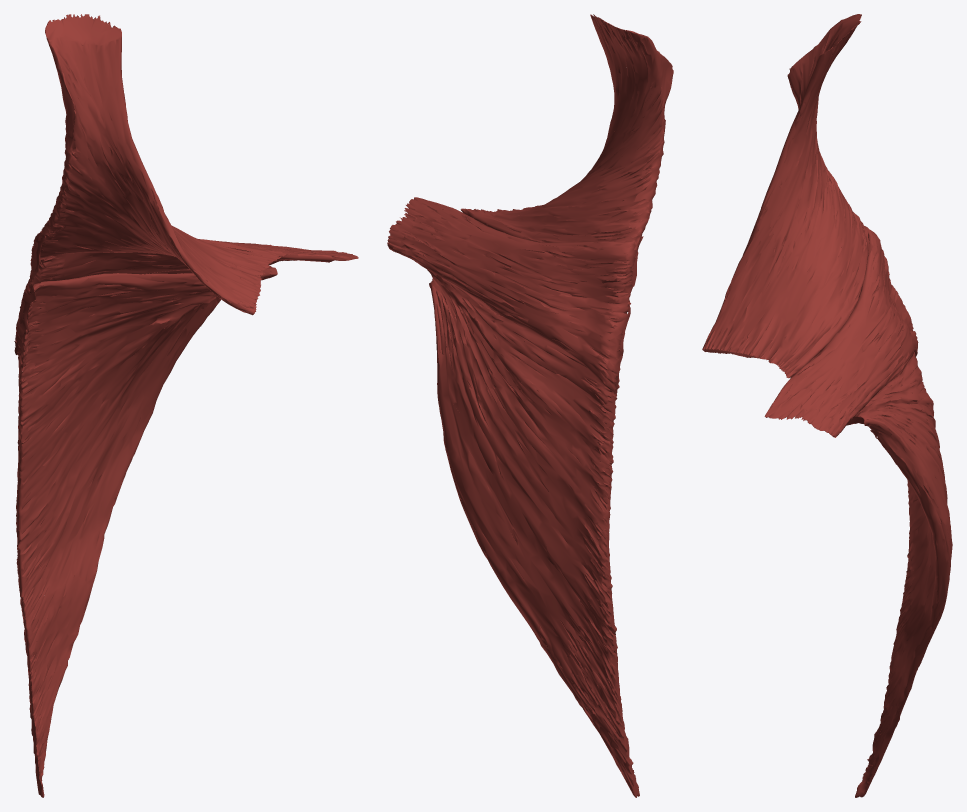
The model's file is explorar-trapezius.glb.
The picture shows the model from 3 angles, left to right: view 1: azimuth 30°, elevation 25°; view 2: azimuth 150°, elevation 25°; view 3: azimuth 270°, elevation 25°; orthographic projection. The views are drawn at different scales.
Visible parts, largest first — view 1: trapezius__porcion_ascendente, trapezius__porcion_descendente, trapezius__porcion_transversa; view 2: trapezius__porcion_ascendente, trapezius__porcion_transversa, trapezius__porcion_descendente; view 3: trapezius__porcion_descendente, trapezius__porcion_ascendente, trapezius__porcion_transversa.
Boxes of the visible parts, x1,y1,x2,y2 form: trapezius__porcion_ascendente: (16, 265, 277, 797); trapezius__porcion_descendente: (38, 14, 290, 315); trapezius__porcion_transversa: (14, 231, 358, 355); trapezius__porcion_ascendente: (427, 269, 639, 797); trapezius__porcion_transversa: (387, 197, 643, 393); trapezius__porcion_descendente: (460, 14, 673, 271); trapezius__porcion_descendente: (702, 14, 869, 378); trapezius__porcion_ascendente: (846, 339, 952, 797); trapezius__porcion_transversa: (764, 226, 918, 437).
Size of the model in its own units: 0.1638 by 0.4403 by 0.1264.
